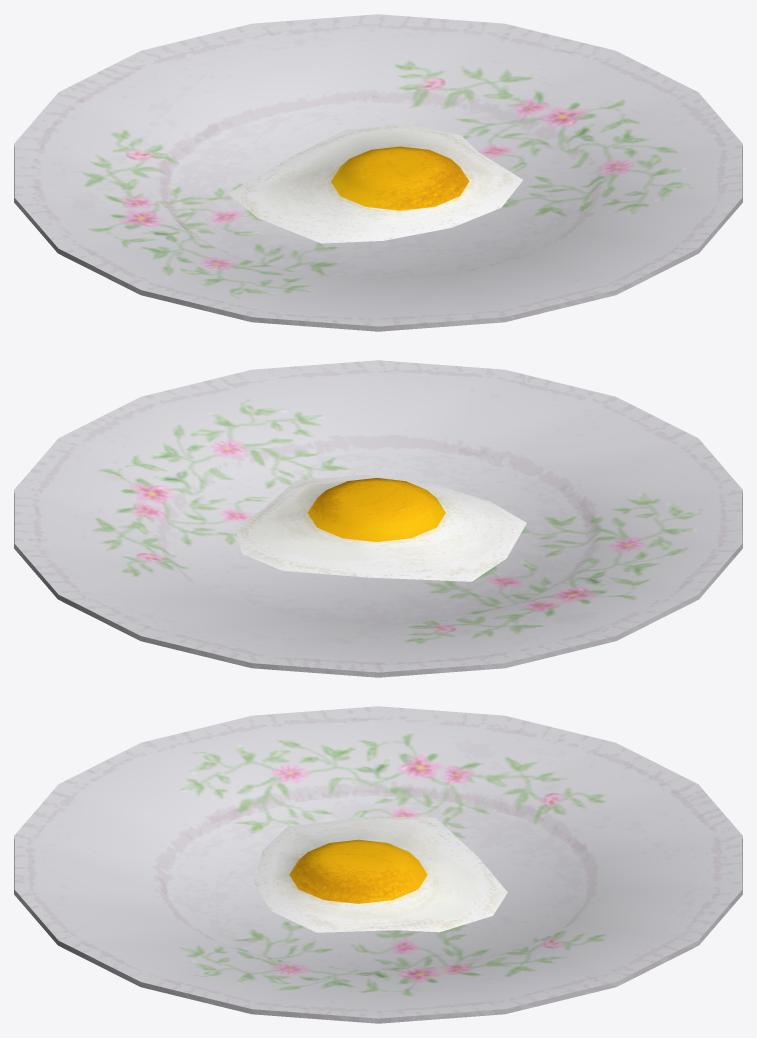
The model's file is Egg.glb.
3 views of the same model, one above another, from view 1: azimuth 30°, elevation 25°; view 2: azimuth 150°, elevation 25°; view 3: azimuth 270°, elevation 25° (orthographic).
Visible parts, largest first — view 1: polySurface3; view 2: polySurface3; view 3: polySurface3.
Boxes of the visible parts, box(x1,y1,x2,y2) form: polySurface3: box(14, 14, 742, 331); polySurface3: box(14, 360, 742, 677); polySurface3: box(14, 706, 742, 1023).
Size of the model in its own units: 27.12 by 1.46 by 26.7.
Materials: 2 (2 with a texture image).
